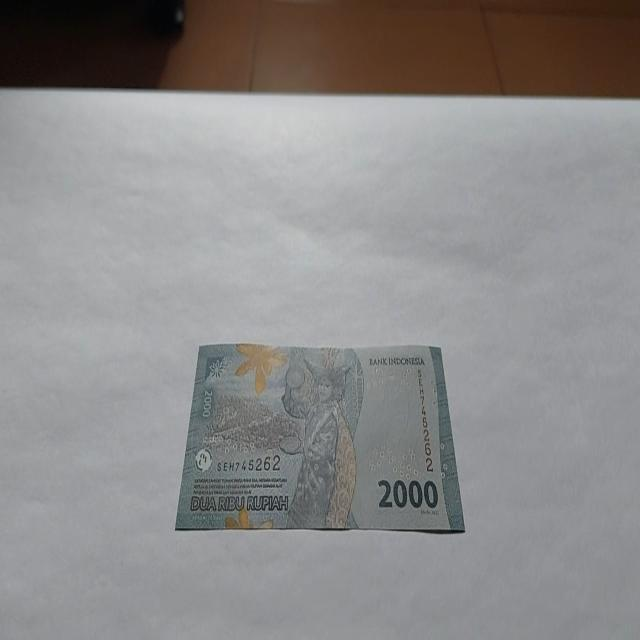dua ribu rupiah: (174, 341, 466, 534), (277, 347, 363, 529)
